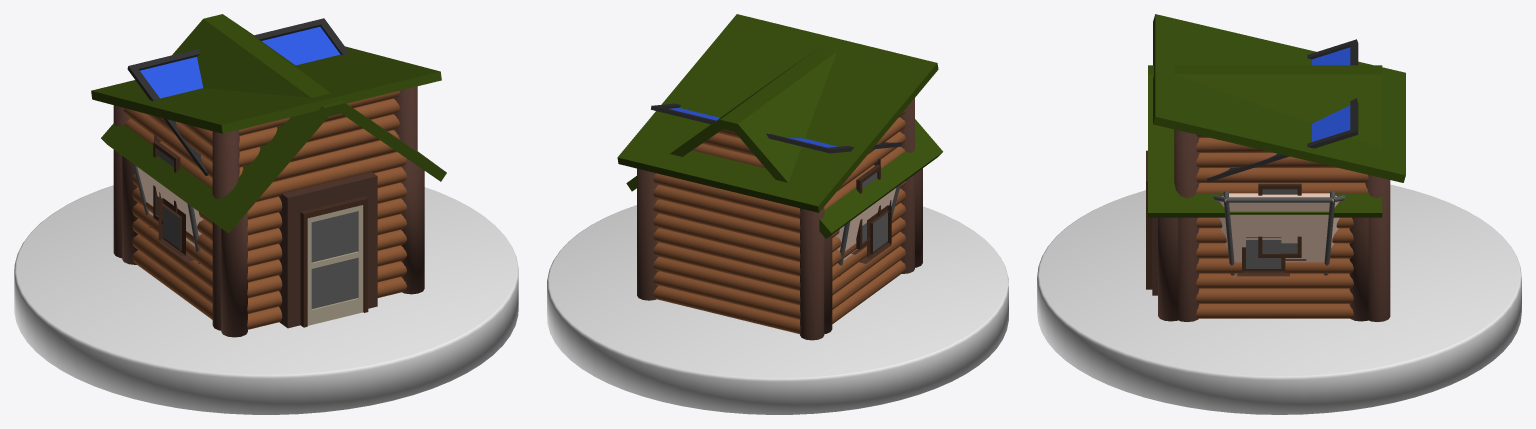
Rendered from objects_platform.gltf.
The picture shows the model from 3 angles, left to right: view 1: azimuth 30°, elevation 25°; view 2: azimuth 150°, elevation 25°; view 3: azimuth 270°, elevation 25°; orthographic projection. The views are drawn at different scales.
Visible parts, largest first — view 1: Platform, Cabin01, Cabin02, TinyBox, JUPE; view 2: Cabin02, Platform, Cabin01, TinyBox, JUPE; view 3: Platform, Cabin02, Cabin01, JUPE, TinyBox.
Part boxes in pixels (left/top/right/bottom): Platform: left=14, top=185, right=518, bottom=414; Cabin01: left=101, top=14, right=446, bottom=337; Cabin02: left=91, top=46, right=441, bottom=330; TinyBox: left=127, top=18, right=349, bottom=175; JUPE: left=132, top=163, right=203, bottom=263; Cabin02: left=617, top=14, right=938, bottom=340; Platform: left=547, top=205, right=1008, bottom=414; Cabin01: left=626, top=47, right=942, bottom=333; TinyBox: left=651, top=103, right=902, bottom=153; JUPE: left=835, top=185, right=900, bottom=276; Platform: left=1037, top=184, right=1521, bottom=414; Cabin02: left=1153, top=14, right=1405, bottom=321; Cabin01: left=1146, top=65, right=1382, bottom=321; JUPE: left=1213, top=190, right=1345, bottom=275; TinyBox: left=1207, top=39, right=1358, bottom=182.
Bounding box in the file's own units: 5.45 × 3.07 × 5.45.
